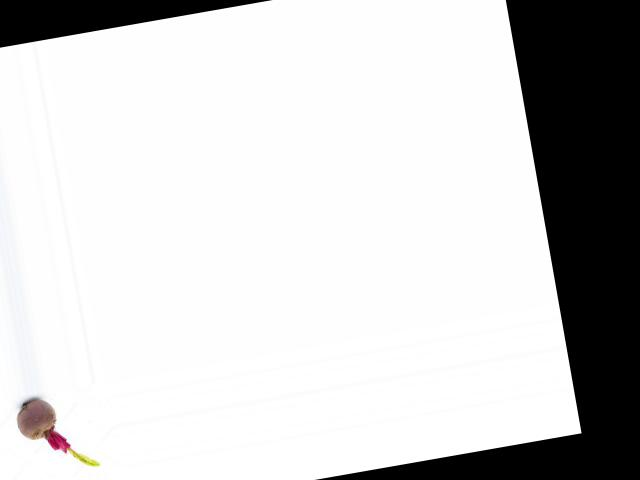beet: (13, 391, 98, 478)
